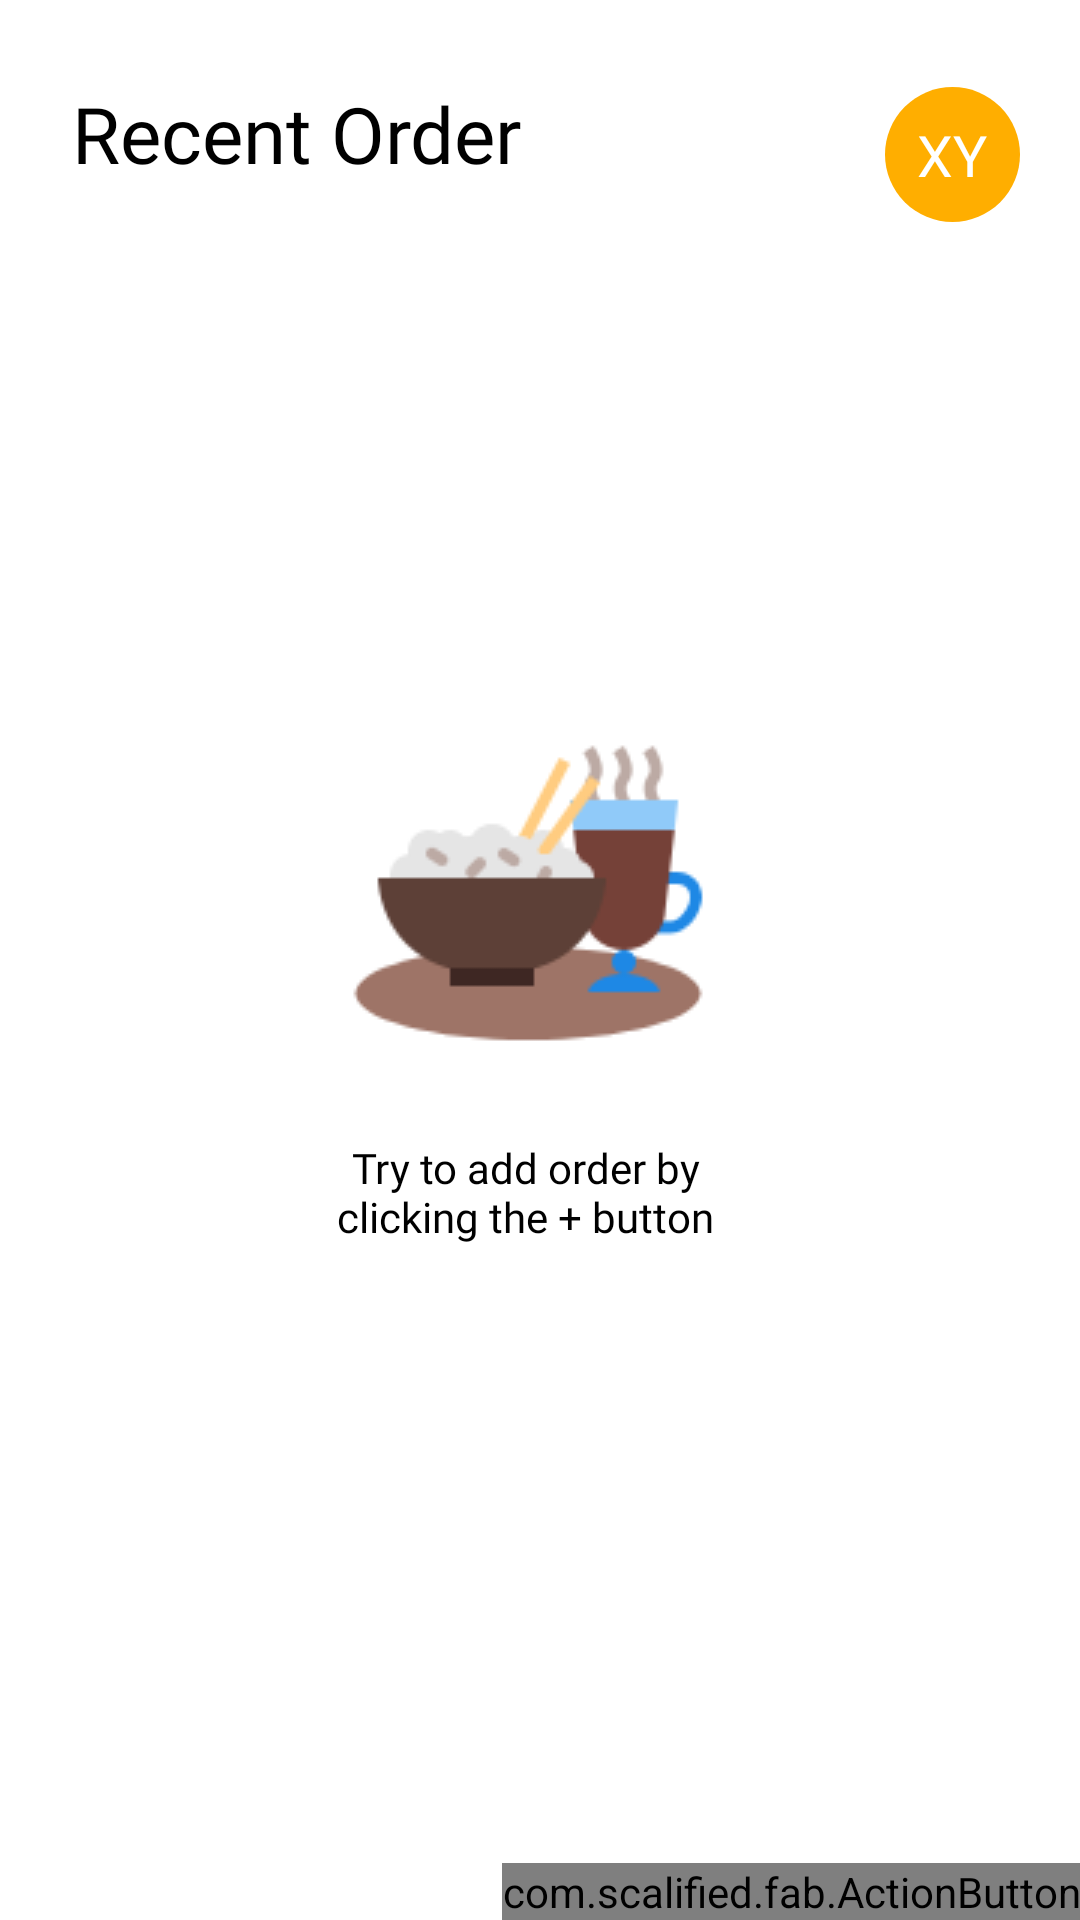

Screen size 1080x1920. Icon name, then its center in pixels as [x,y]:
drink food: [528,893]
